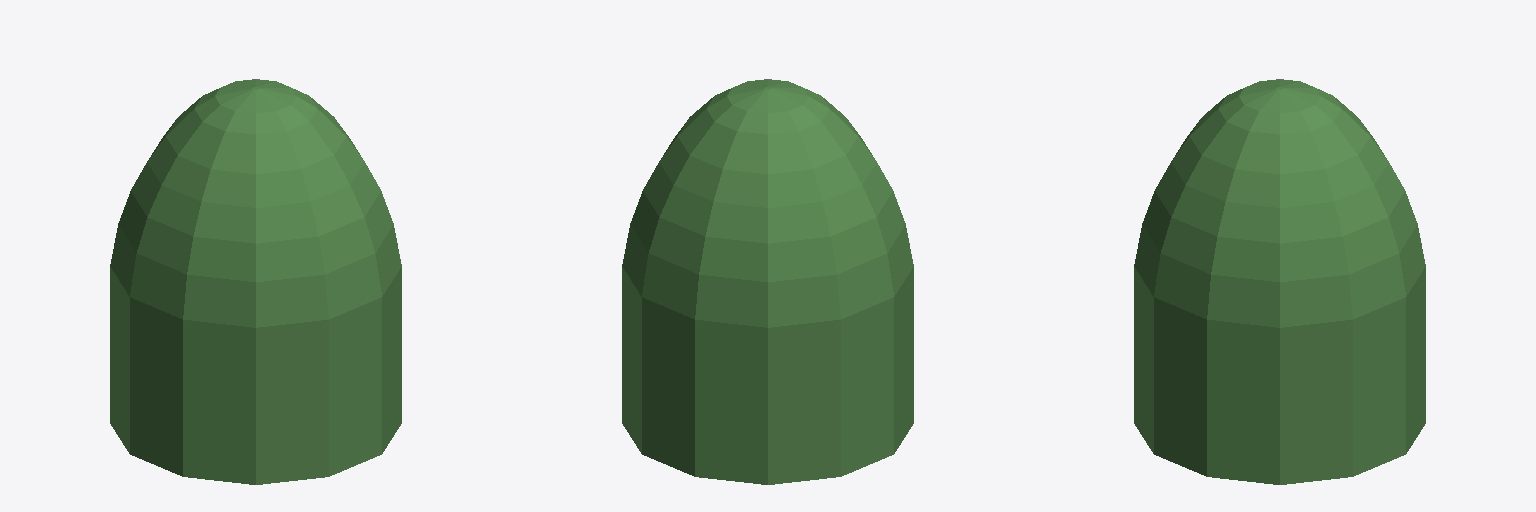
The model's file is Mountain_Mahogany_Analytical_0.obj.
The picture shows the model from 3 angles: view 1: azimuth 30°, elevation 25°; view 2: azimuth 150°, elevation 25°; view 3: azimuth 270°, elevation 25°; orthographic projection.
Visible parts, largest first — view 1: AnalyticalCrown; view 2: AnalyticalCrown; view 3: AnalyticalCrown.
Part boxes in pixels (left/top/right/bottom): AnalyticalCrown: left=110, top=79, right=401, bottom=484; AnalyticalCrown: left=622, top=79, right=913, bottom=484; AnalyticalCrown: left=1134, top=79, right=1425, bottom=484.
Bounding box in the file's own units: 2.76 × 3.5 × 2.76.